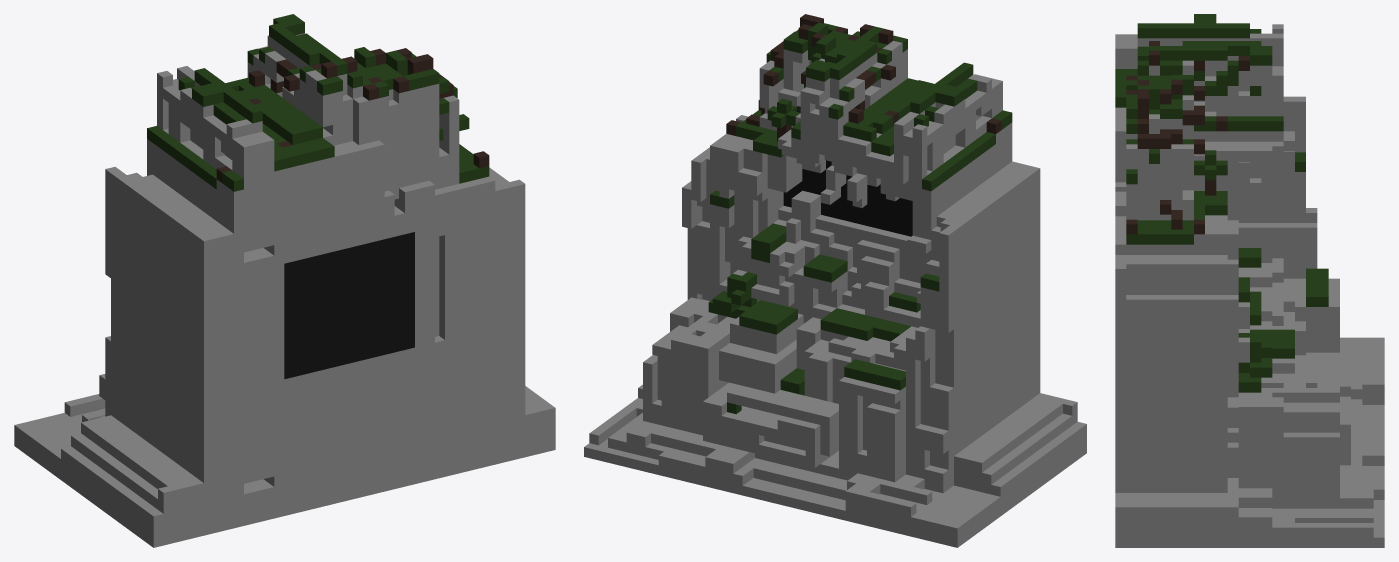
Rendered from Mountain.obj.
3 renders of one model, left to right at view 1: azimuth 30°, elevation 25°; view 2: azimuth 150°, elevation 25°; view 3: azimuth 270°, elevation 25°, orthographic. The views are drawn at different scales.
Size of the model in its own units: 4 by 4 by 2.4.
Materials: 1 (1 with a texture image).
